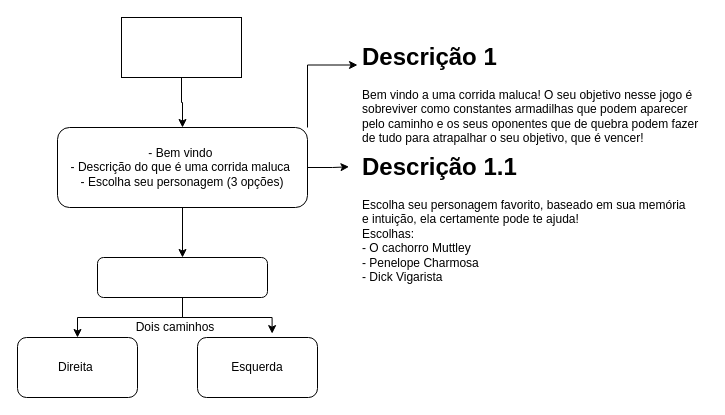
Some shapes in this 725 by 415 pixel diagram are drawn without their labels. The centre of each missing label's shape, as x and y in pixels:
A CORIDA MALUCA: point 181,47
Duas opções de escolha:: point 182,277
